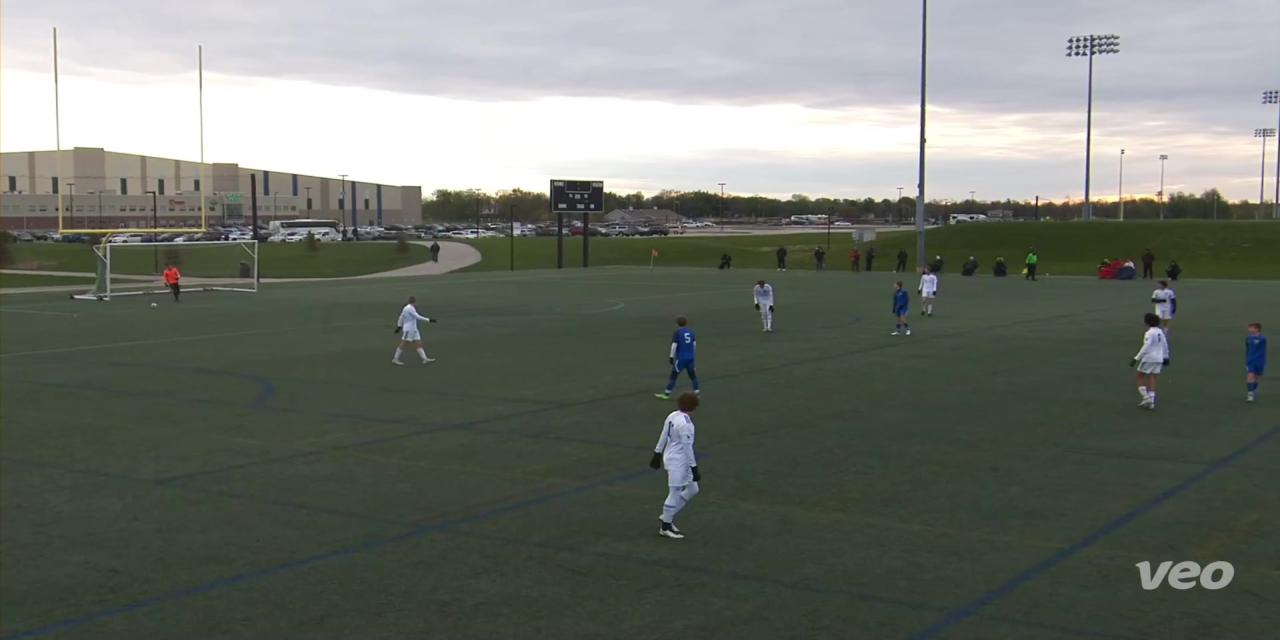sports ball: (147, 298, 160, 312)
